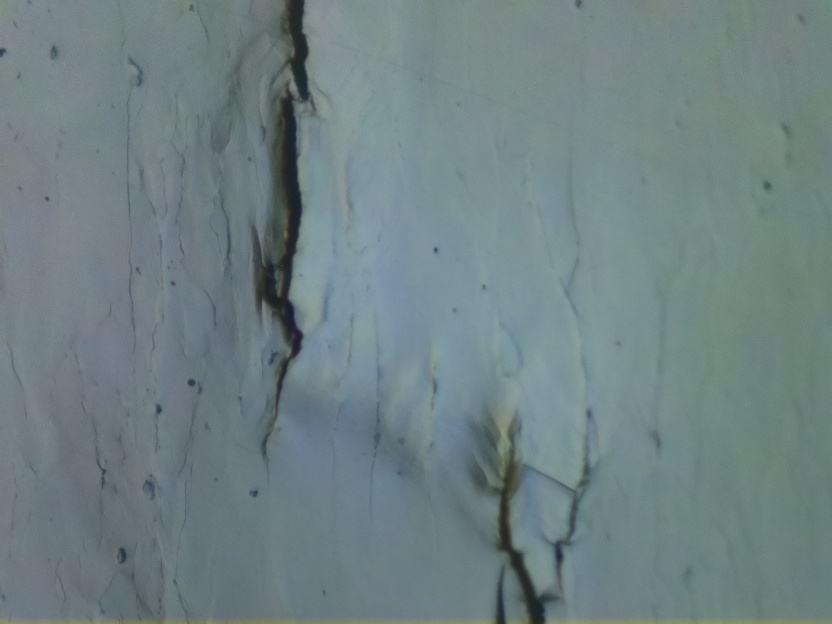crack: (249, 0, 318, 485), (489, 417, 598, 624)
